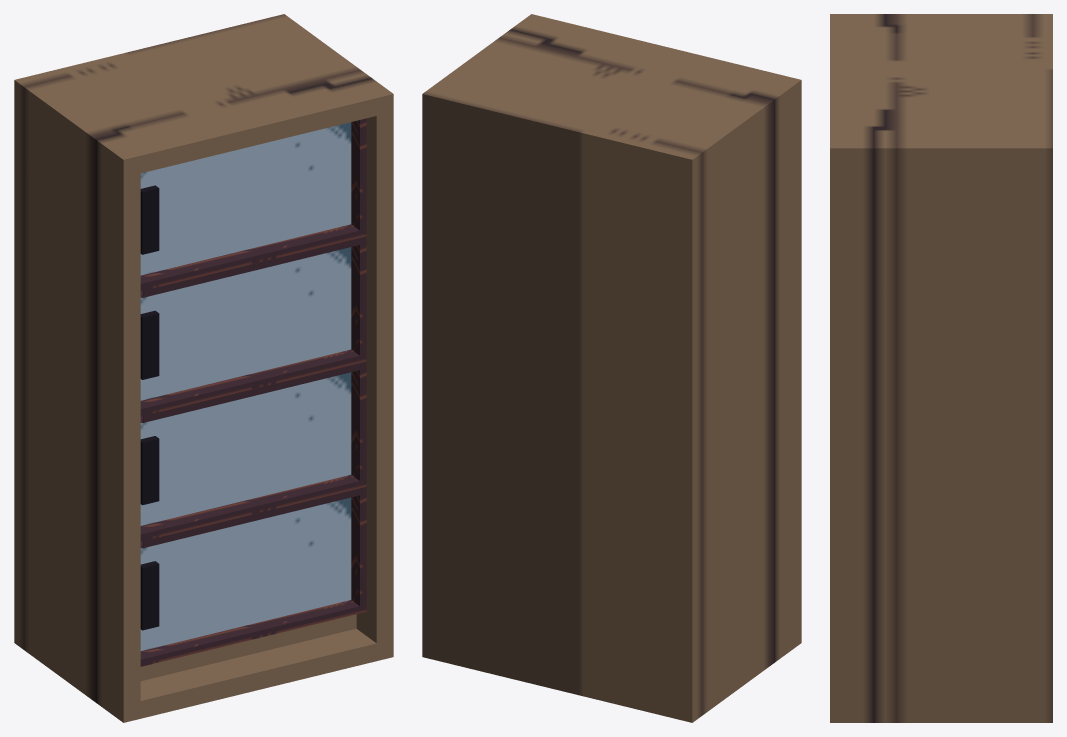
File: ArmarioVelho.fbx
3 renders of one model, left to right at view 1: azimuth 30°, elevation 25°; view 2: azimuth 150°, elevation 25°; view 3: azimuth 270°, elevation 25°, orthographic. The views are drawn at different scales.
Visible parts, largest first — view 1: ArmarioVelho; view 2: ArmarioVelho; view 3: ArmarioVelho.
Part boxes in pixels (<box>): ArmarioVelho: <box>14,14,393,722</box>; ArmarioVelho: <box>422,14,801,722</box>; ArmarioVelho: <box>830,14,1052,722</box>.
Size of the model in its own units: 98.79 by 69.21 by 197.
